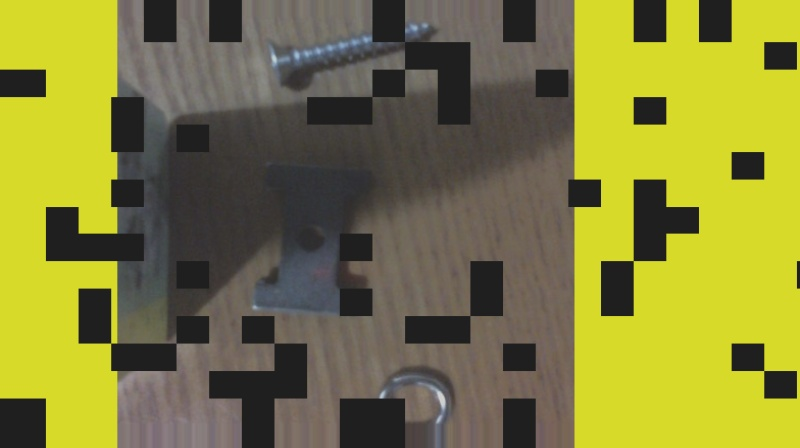O001: (322, 365, 453, 447)
O002: (247, 161, 375, 319)
S001: (256, 17, 443, 95)
